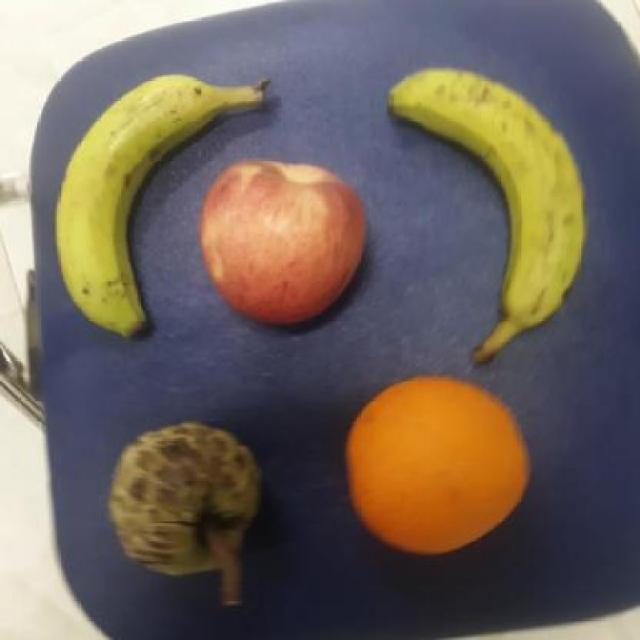apple: (193, 155, 379, 332)
banana: (383, 55, 591, 320), (49, 68, 226, 342)
oren: (333, 375, 533, 558)
sugar apple: (103, 422, 266, 576)
